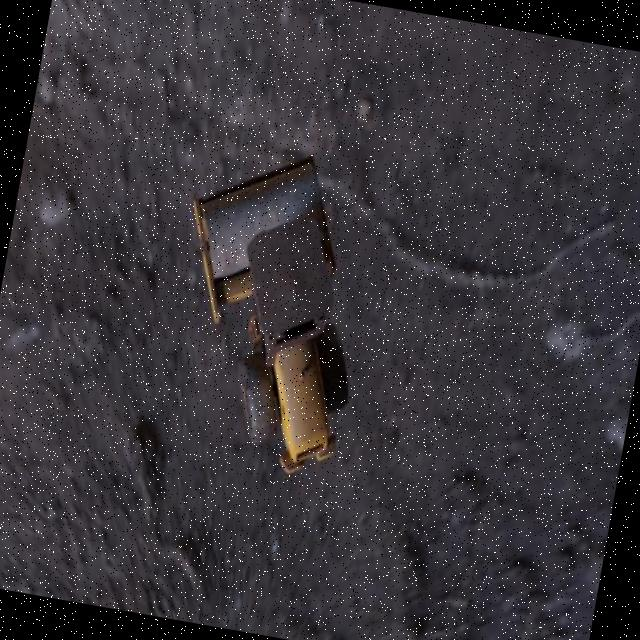Roller: (149, 134, 389, 482)
